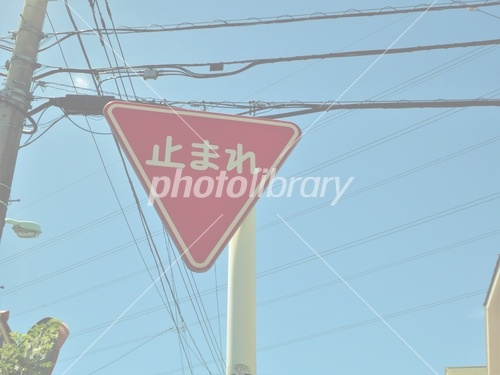Regulatory_sign_triangle: (91, 96, 298, 279)
